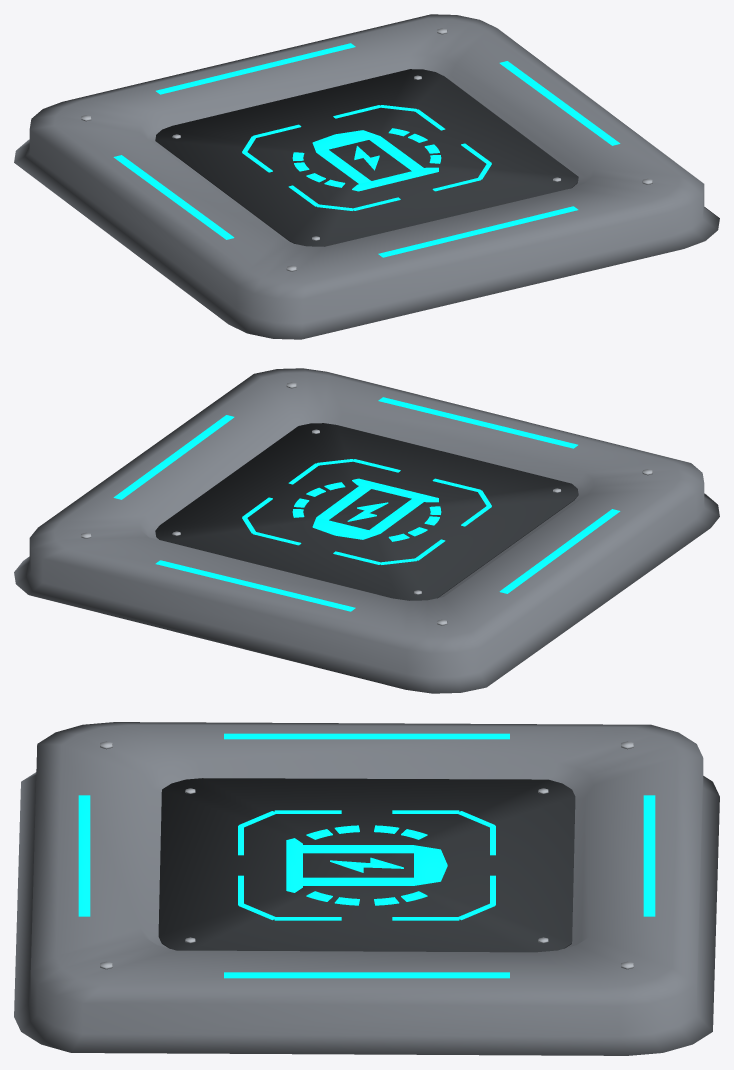
The model's file is plataforma 1.fbx.
3 views of the same model, one above another, from view 1: azimuth 30°, elevation 25°; view 2: azimuth 150°, elevation 25°; view 3: azimuth 270°, elevation 25° (orthographic). The views are drawn at different scales.
Visible parts, largest first — view 1: Robot_Charging_Platform, Center_Panel, Charging_Icon_And_Emissives; view 2: Robot_Charging_Platform, Center_Panel, Charging_Icon_And_Emissives; view 3: Robot_Charging_Platform, Center_Panel, Charging_Icon_And_Emissives, Hardware_Bolts.
Part boxes in pixels (x1,y1,x2,y2): Robot_Charging_Platform: (14, 14, 719, 339); Center_Panel: (155, 69, 578, 246); Charging_Icon_And_Emissives: (113, 43, 620, 257); Robot_Charging_Platform: (14, 368, 719, 693); Center_Panel: (155, 423, 578, 600); Charging_Icon_And_Emissives: (113, 397, 620, 611); Robot_Charging_Platform: (14, 722, 719, 1055); Center_Panel: (158, 778, 575, 952); Charging_Icon_And_Emissives: (78, 733, 655, 978); Hardware_Bolts: (100, 741, 633, 969).
Size of the model in its own units: 420 by 34.4 by 420.
